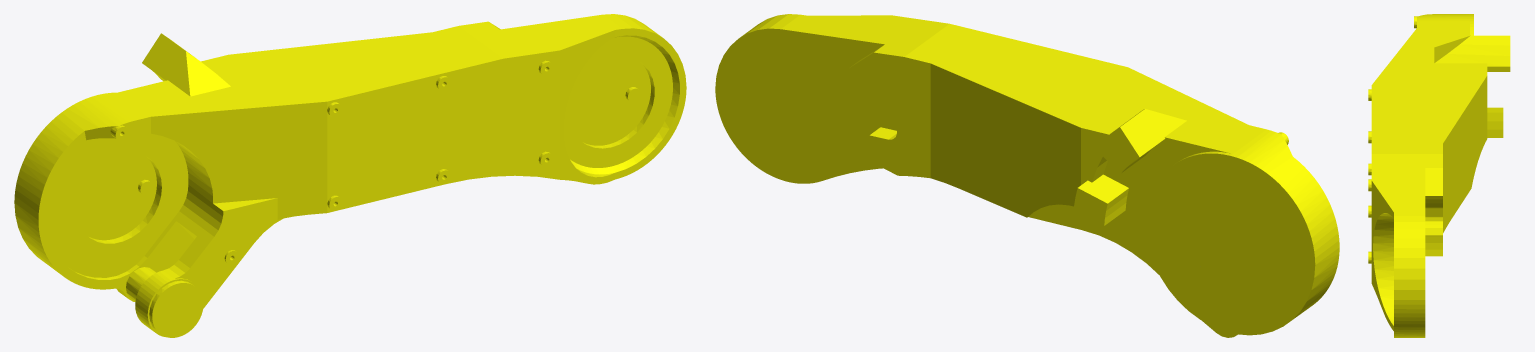
3 views of the same model, side by side, from view 1: azimuth 30°, elevation 25°; view 2: azimuth 150°, elevation 25°; view 3: azimuth 270°, elevation 25° (orthographic). The views are drawn at different scales.
Parts seen in each view (by area): view 1: node; view 2: node; view 3: node.
Boxes of the visible parts, bbox=[...] form: node: bbox=[14, 14, 686, 337]; node: bbox=[715, 14, 1339, 337]; node: bbox=[1368, 14, 1510, 337].
Bounding box in the file's own units: 1431 × 502 × 381.
